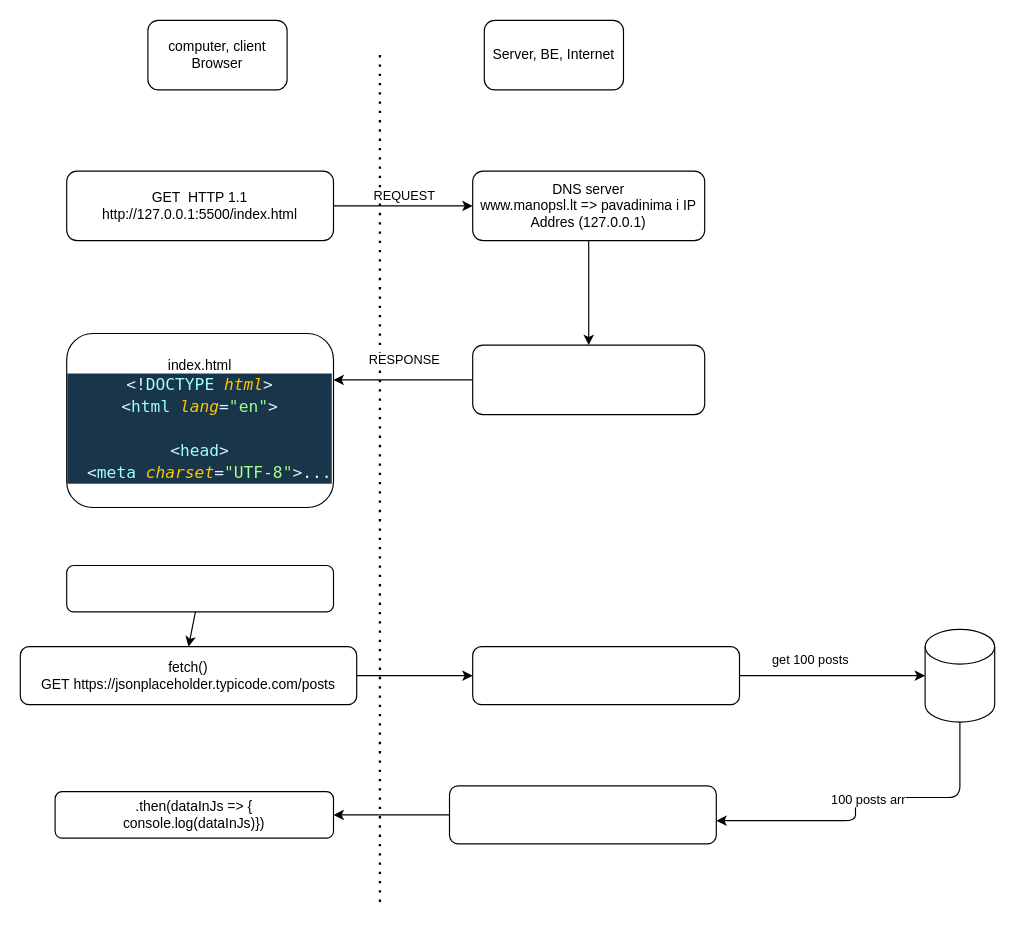
The diagram is 1015 pixels wide and 925 high, and some of its shapes have lost their labels. Here are the shapes that lost their labels. From the top down, the centre of each, then its label:
At (x=588, y=379): "surandam serveri pgl IP adrress ir puslapi index.html".
At (x=200, y=588): "getPosts()".
At (x=606, y=675): "posts".
At (x=582, y=814): "postsArr JSON".
